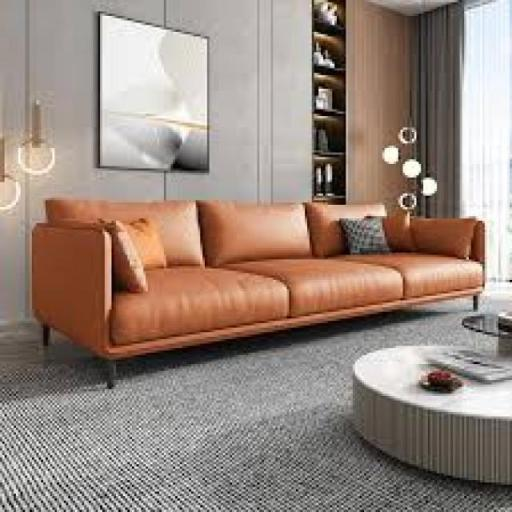sofa: (38, 178, 510, 372)
